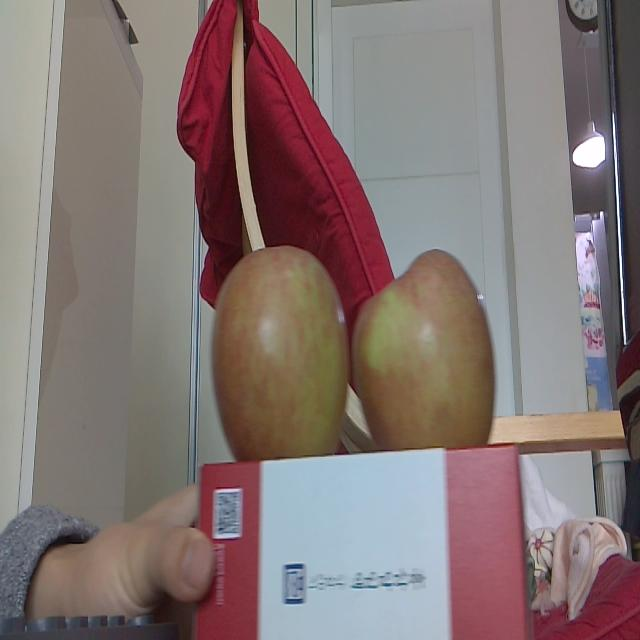apple: (352, 244, 502, 449), (208, 239, 350, 453)
